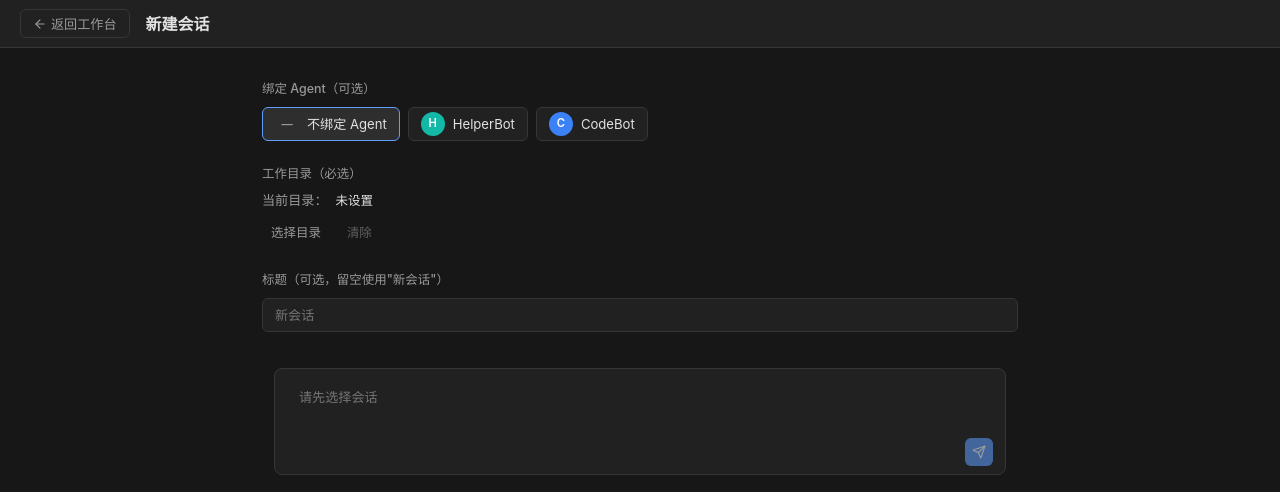
it: NewSessionPage › Agent 选择切换 defaultCwd 继承：选 agent-2 后 directory-picker-value 自动填充
Expected: the text with test id "directory-picker-value" reads "未设置", [336, 193, 373, 208]
Click the button with test id "new-session-agent-agent-2" at coordinates (592, 124), box [536, 107, 648, 141]
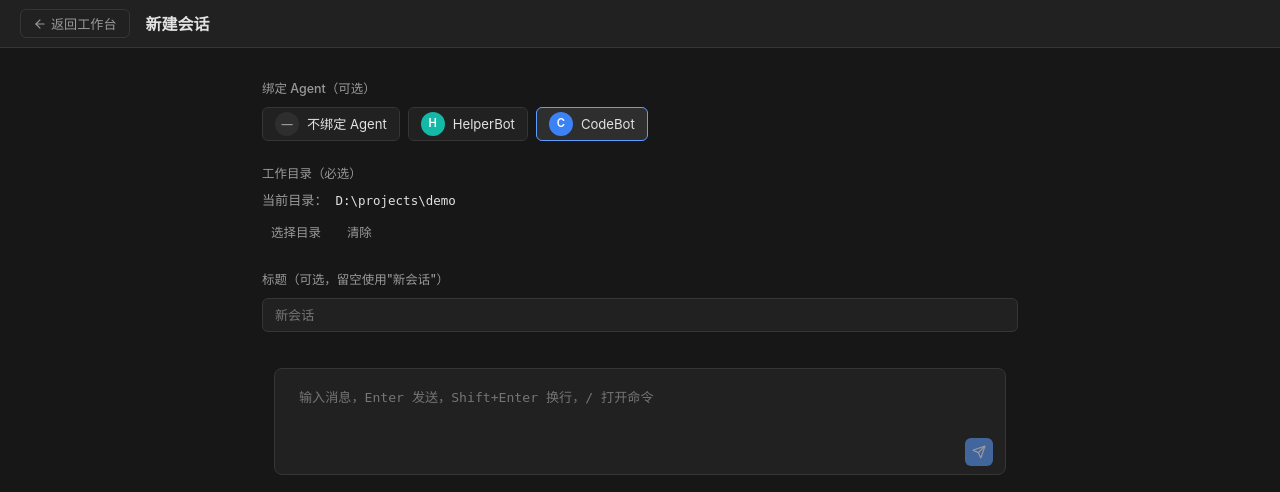
Result: the text with test id "directory-picker-value" reads "D:\\projects\\demo" at [336, 193, 456, 208]
